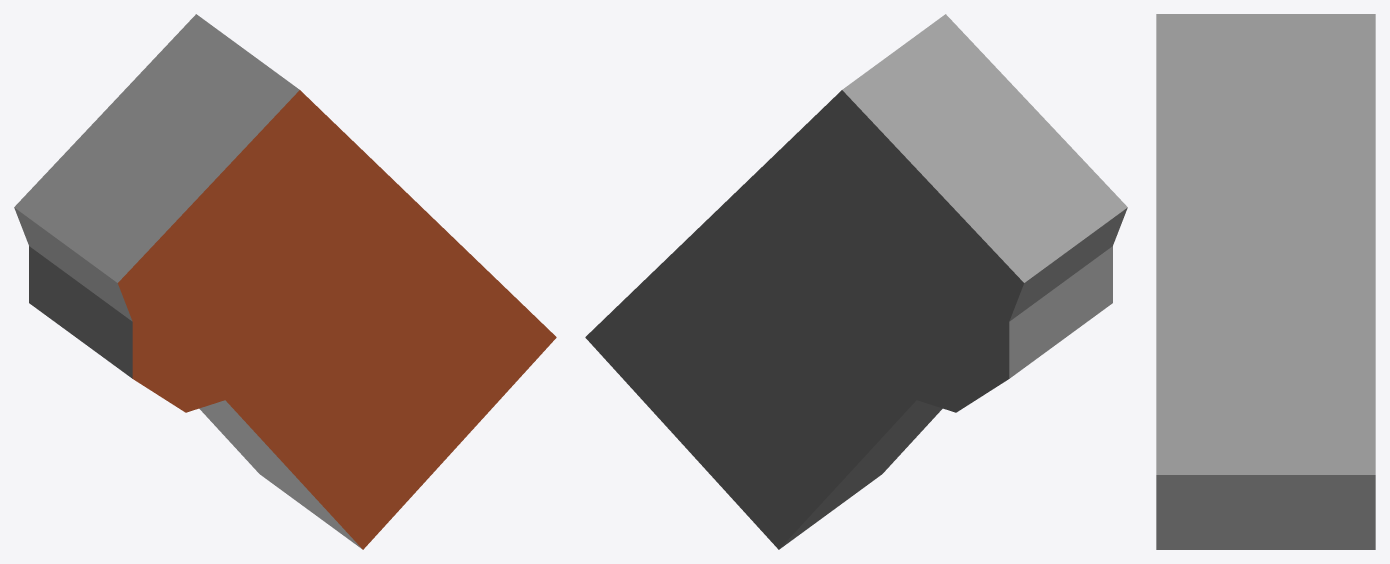
The model's file is construction_6630_assumed_A_Casa_h6m.obj.
The picture shows the model from 3 angles, left to right: view 1: azimuth 30°, elevation 25°; view 2: azimuth 150°, elevation 25°; view 3: azimuth 270°, elevation 25°; orthographic projection. The views are drawn at different scales.
Visible parts, largest first — view 1: construction_6630_assumed_A_Casa; view 2: construction_6630_assumed_A_Casa; view 3: construction_6630_assumed_A_Casa.
Boxes of the visible parts, x1=… form: construction_6630_assumed_A_Casa: x1=14, y1=14, x2=556, y2=549; construction_6630_assumed_A_Casa: x1=585, y1=14, x2=1127, y2=549; construction_6630_assumed_A_Casa: x1=1156, y1=14, x2=1375, y2=549.
Size of the model in its own units: 14.68 by 15.19 by 6.
